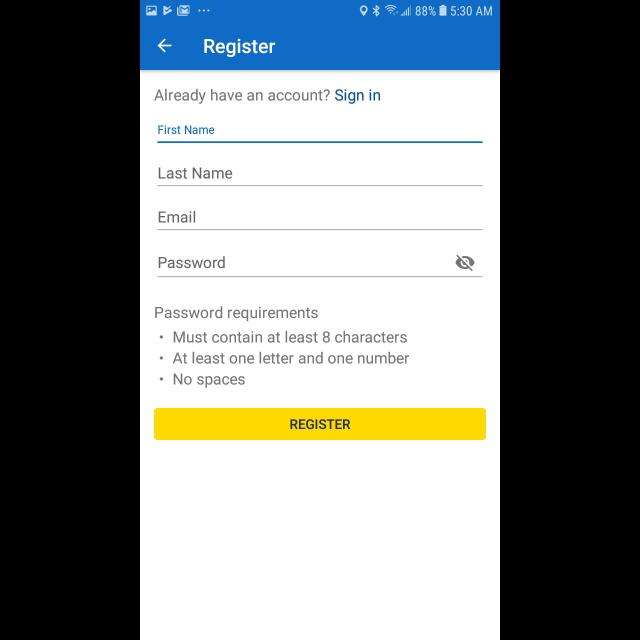icon: (455, 254, 475, 272), (158, 38, 172, 54)
input: (158, 255, 482, 278), (158, 211, 482, 231), (158, 168, 482, 186), (158, 125, 482, 143)
text: (154, 88, 380, 104), (173, 331, 407, 344), (172, 352, 410, 364), (156, 306, 318, 322), (204, 38, 276, 58), (174, 374, 246, 388), (159, 256, 225, 268), (159, 168, 233, 178), (158, 210, 196, 223), (159, 126, 215, 134)
textbutton: (154, 408, 486, 440)
uppertaskbar: (140, 1, 500, 18)
